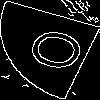O: (24, 25, 99, 78)
